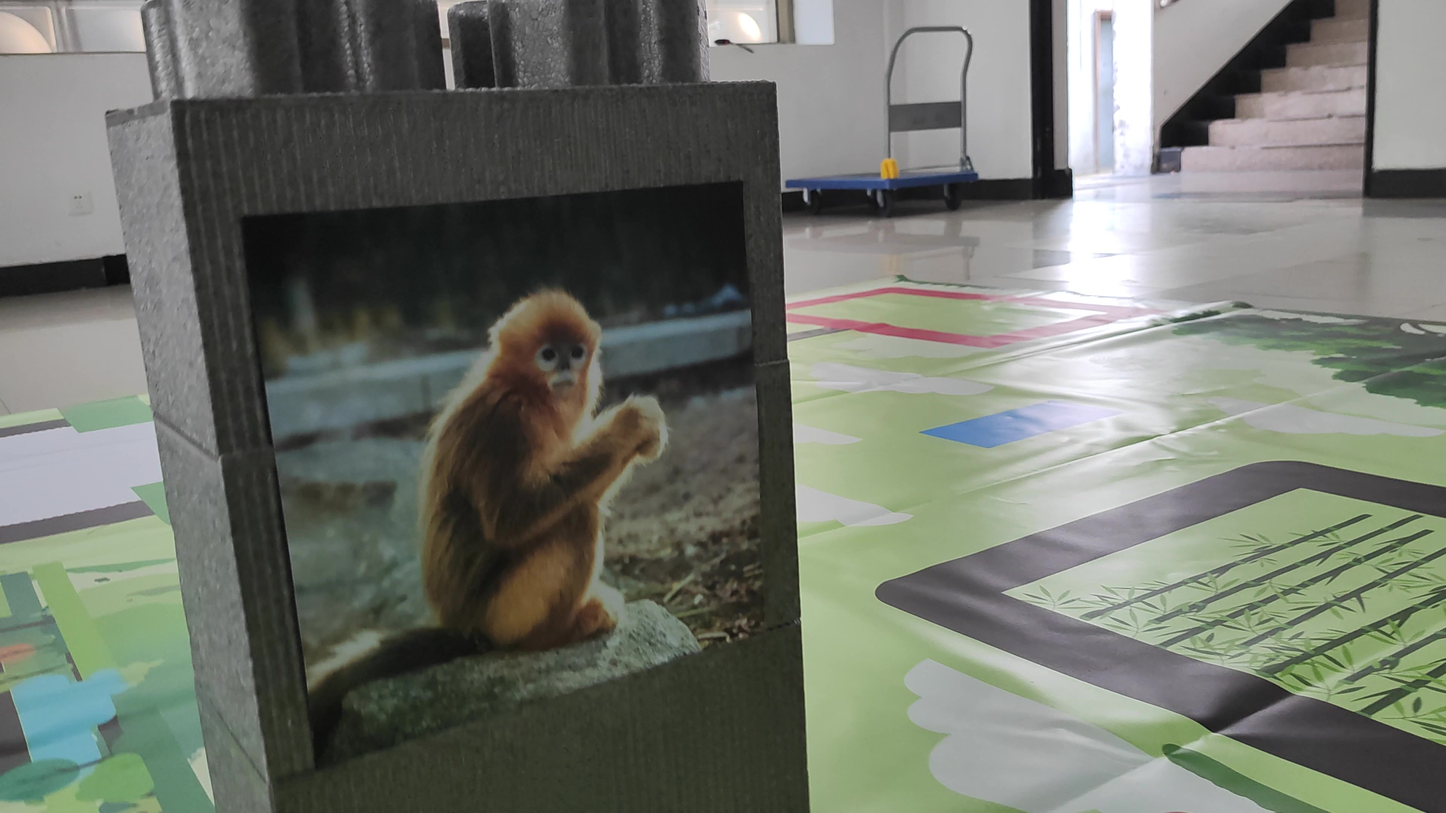monkey: (298, 268, 679, 712)
